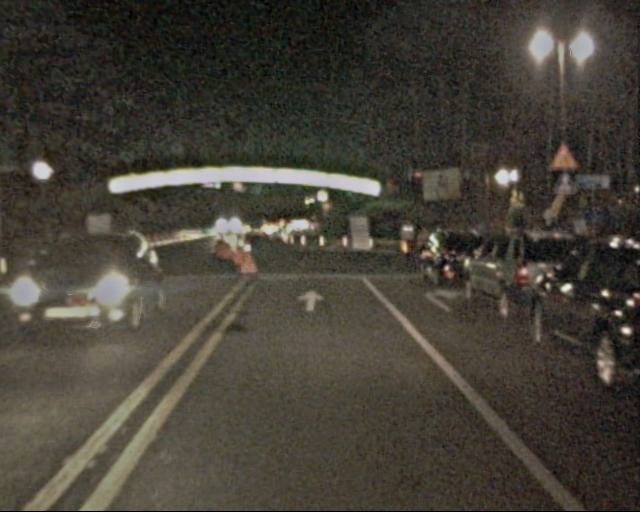person: (414, 223, 436, 277), (398, 219, 417, 266)
